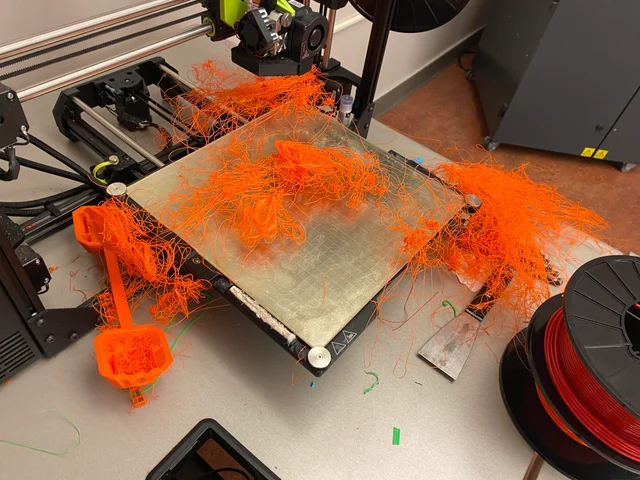Spaghetti: (173, 66, 390, 246), (60, 199, 203, 401)
